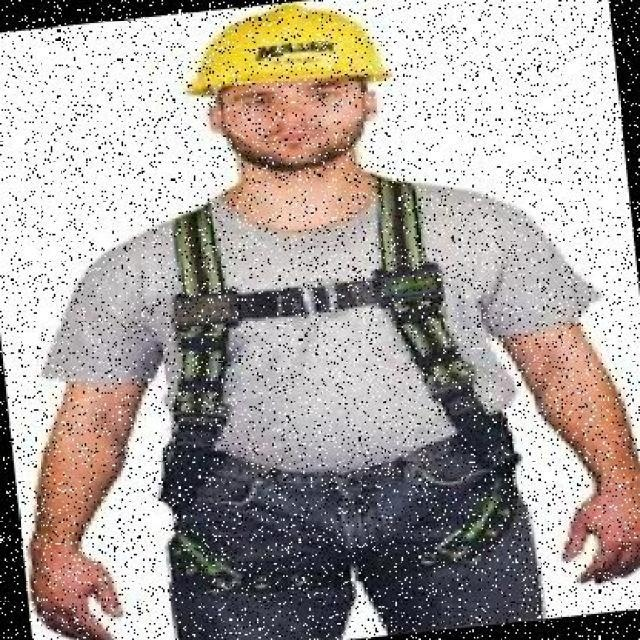Arnes_seguridad: (123, 161, 546, 614)
